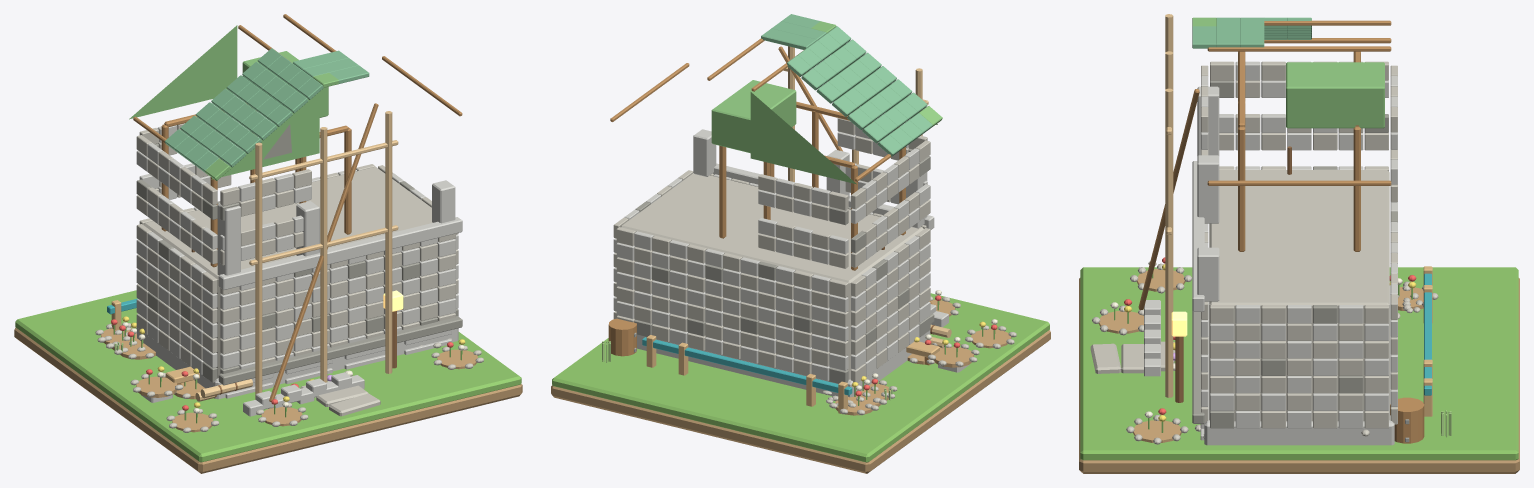
File: stone_house_l06_construction.glb
The picture shows the model from 3 angles, left to right: view 1: azimuth 30°, elevation 25°; view 2: azimuth 150°, elevation 25°; view 3: azimuth 270°, elevation 25°; orthographic projection. The views are drawn at different scales.
Parts seen in each view (by area): view 1: stone_house_grass_tile.003, pilot_stone_house_l06_lower_masonry.001, stone_house_earth_tile.003, pilot_stone_house_l06_continuous_front_band_1.003, pilot_stone_house_l06_green_third_floor_back_wall.003, pilot_stone_house_l06_continuous_front_band_0.003, pilot_stone_house_l06_green_third_floor_front_wall.003, pilot_stone_house_l06_scaffold_scaffold_post_0.002, pilot_stone_house_l06_unified_foundation_stone_block_medium_, pilot_stone_house_l06_scaffold_scaffold_post_-0.001, pilot_stone_house_l06_scaffold_scaffold_post_0.001, pilot_stone_house_l06_scaffold_scaffold_brace.001 (+13 smaller); view 2: stone_house_grass_tile.003, pilot_stone_house_l06_lower_masonry.001, stone_house_earth_tile.003, pilot_stone_house_l06_green_third_floor_back_wall.003, pilot_stone_house_l06_unfinished_green_third_floor.001, pilot_stone_house_l06_yard_fence_rail.003, pilot_stone_house_l06_unified_foundation_stone_block_medium_, pilot_stone_house_l06_unfinished_upper_pier_1.001, pilot_stone_house_l06_yard_barrel_barrel_body.003, pilot_stone_house_l06_continuous_front_band_1.003, pilot_stone_house_l06_third_floor_support_0.61_0.001, pilot_stone_house_l06_planter_blooms_1_ring_soil.003 (+3 smaller); view 3: stone_house_grass_tile.003, pilot_stone_house_l06_lower_masonry.001, stone_house_earth_tile.003, pilot_stone_house_l06_unfinished_green_third_floor.001, pilot_stone_house_l06_unified_foundation_stone_block_medium_, pilot_stone_house_l06_scaffold_scaffold_post_0.002, pilot_stone_house_l06_unfinished_upper_pier_0.002, pilot_stone_house_l06_yard_barrel_barrel_body.003, pilot_stone_house_l06_continuous_front_band_1.003, pilot_stone_house_l06_scaffold_scaffold_brace.001, pilot_stone_house_l06_unfinished_upper_pier_1.001, pilot_stone_house_l06_unfinished_upper_pier_-0.001 (+38 smaller).
Part boxes in pixels (left/top/right/bottom): stone_house_grass_tile.003: left=15, top=290, right=521, bottom=462; pilot_stone_house_l06_lower_masonry.001: left=144, top=166, right=432, bottom=377; stone_house_earth_tile.003: left=14, top=327, right=522, bottom=473; pilot_stone_house_l06_continuous_front_band_1.003: left=218, top=217, right=462, bottom=289; pilot_stone_house_l06_green_third_floor_back_wall.003: left=129, top=25, right=237, bottom=119; pilot_stone_house_l06_continuous_front_band_0.003: left=218, top=316, right=462, bottom=385; pilot_stone_house_l06_green_third_floor_front_wall.003: left=211, top=92, right=319, bottom=179; pilot_stone_house_l06_scaffold_scaffold_post_0.002: left=385, top=111, right=392, bottom=373; pilot_stone_house_l06_unified_foundation_stone_block_medium_: left=137, top=328, right=458, bottom=399; pilot_stone_house_l06_scaffold_scaffold_post_-0.001: left=255, top=142, right=262, bottom=399; pilot_stone_house_l06_scaffold_scaffold_post_0.001: left=320, top=127, right=327, bottom=382; pilot_stone_house_l06_scaffold_scaffold_brace.001: left=269, top=103, right=378, bottom=401; stone_house_grass_tile.003: left=552, top=293, right=1049, bottom=462; pilot_stone_house_l06_lower_masonry.001: left=620, top=173, right=923, bottom=379; stone_house_earth_tile.003: left=551, top=330, right=1050, bottom=473; pilot_stone_house_l06_green_third_floor_back_wall.003: left=750, top=92, right=856, bottom=184; pilot_stone_house_l06_unfinished_green_third_floor.001: left=711, top=80, right=796, bottom=153; pilot_stone_house_l06_yard_fence_rail.003: left=642, top=337, right=852, bottom=395; pilot_stone_house_l06_unified_foundation_stone_block_medium_: left=637, top=330, right=930, bottom=397; pilot_stone_house_l06_unfinished_upper_pier_1.001: left=693, top=129, right=716, bottom=176; pilot_stone_house_l06_yard_barrel_barrel_body.003: left=608, top=318, right=636, bottom=356; pilot_stone_house_l06_continuous_front_band_1.003: left=712, top=163, right=934, bottom=229; pilot_stone_house_l06_third_floor_support_0.61_0.001: left=719, top=145, right=726, bottom=238; pilot_stone_house_l06_planter_blooms_1_ring_soil.003: left=933, top=347, right=973, bottom=367; stone_house_grass_tile.003: left=1080, top=267, right=1518, bottom=460; pilot_stone_house_l06_lower_masonry.001: left=1209, top=170, right=1389, bottom=421; stone_house_earth_tile.003: left=1079, top=278, right=1519, bottom=473; pilot_stone_house_l06_unfinished_green_third_floor.001: left=1286, top=62, right=1384, bottom=128; pilot_stone_house_l06_unified_foundation_stone_block_medium_: left=1204, top=285, right=1394, bottom=445; pilot_stone_house_l06_scaffold_scaffold_post_0.002: left=1165, top=88, right=1173, bottom=397; pilot_stone_house_l06_unfinished_upper_pier_0.002: left=1197, top=155, right=1219, bottom=223; pilot_stone_house_l06_yard_barrel_barrel_body.003: left=1390, top=397, right=1424, bottom=443; pilot_stone_house_l06_continuous_front_band_1.003: left=1192, top=161, right=1204, bottom=311; pilot_stone_house_l06_scaffold_scaffold_brace.001: left=1138, top=89, right=1199, bottom=310; pilot_stone_house_l06_unfinished_upper_pier_1.001: left=1197, top=247, right=1219, bottom=301; pilot_stone_house_l06_unfinished_upper_pier_-0.001: left=1197, top=86, right=1219, bottom=155.
Size of the model in its own units: 3.6 by 3.34 by 3.6.
